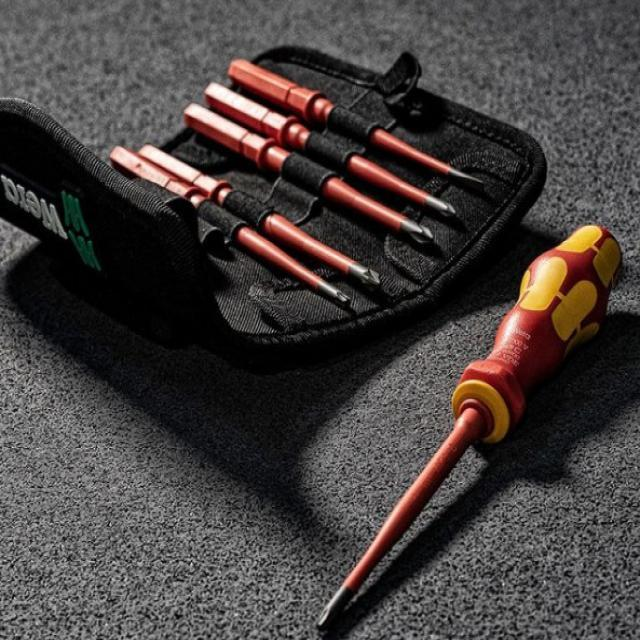screwdriver: (316, 216, 624, 634)
